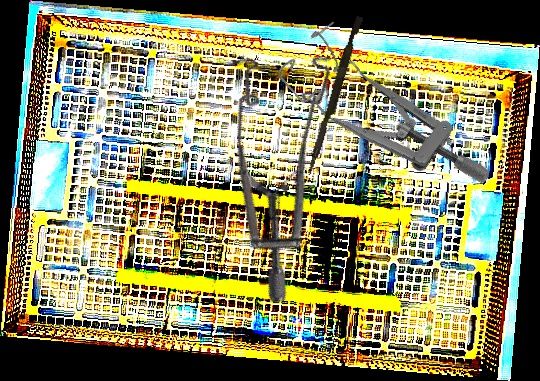Pusher: (306, 14, 364, 178)
Speculum: (167, 21, 418, 307), (271, 4, 495, 238)
